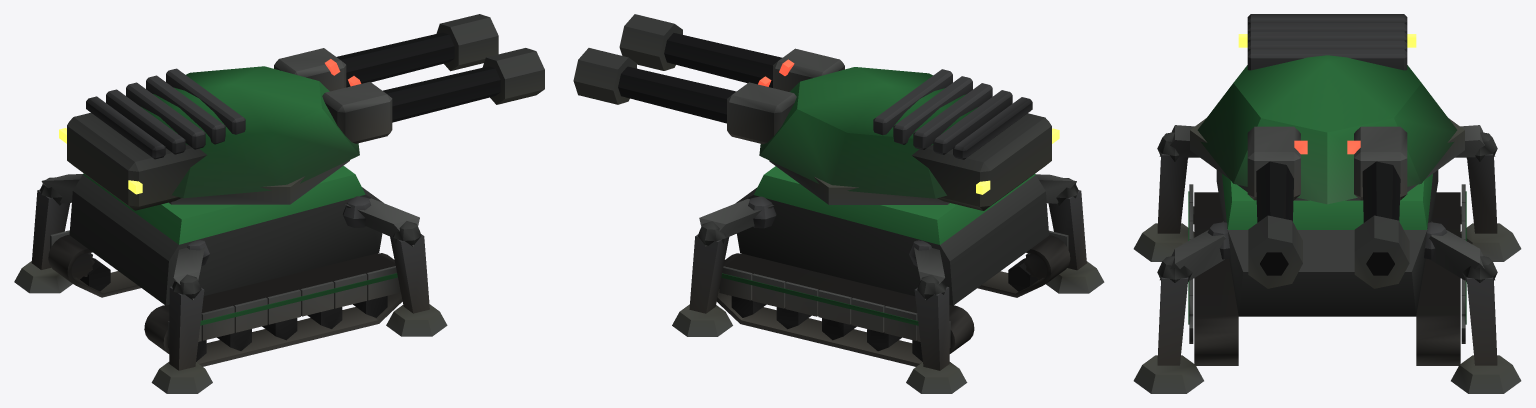
The model's file is u_colossus_lod1.glb.
3 renders of one model, left to right at view 1: azimuth 30°, elevation 25°; view 2: azimuth 150°, elevation 25°; view 3: azimuth 270°, elevation 25°, orthographic. The views are drawn at different scales.
Visible parts, largest first — view 1: Colossus_LOD1_turret, Colossus_LOD1_Walls, Colossus_LOD1_Foundation, Colossus_LOD1_Details; view 2: Colossus_LOD1_turret, Colossus_LOD1_Walls, Colossus_LOD1_Foundation, Colossus_LOD1_Details; view 3: Colossus_LOD1_turret, Colossus_LOD1_Walls, Colossus_LOD1_Foundation, Colossus_LOD1_Details.
Part boxes in pixels (x1,y1,x2,y2): Colossus_LOD1_turret: [59, 14, 544, 210]; Colossus_LOD1_Walls: [14, 166, 447, 393]; Colossus_LOD1_Foundation: [48, 234, 402, 366]; Colossus_LOD1_Details: [200, 273, 397, 325]; Colossus_LOD1_turret: [573, 14, 1059, 210]; Colossus_LOD1_Walls: [672, 166, 1104, 393]; Colossus_LOD1_Foundation: [716, 235, 1070, 366]; Colossus_LOD1_Details: [721, 273, 918, 325]; Colossus_LOD1_turret: [1190, 14, 1464, 288]; Colossus_LOD1_Walls: [1133, 125, 1521, 393]; Colossus_LOD1_Foundation: [1194, 192, 1460, 365]; Colossus_LOD1_Details: [1188, 191, 1466, 324].
Size of the model in its own units: 2.53 by 1.26 by 1.75.
